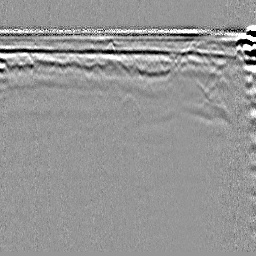cavity: (116, 92, 141, 116)
